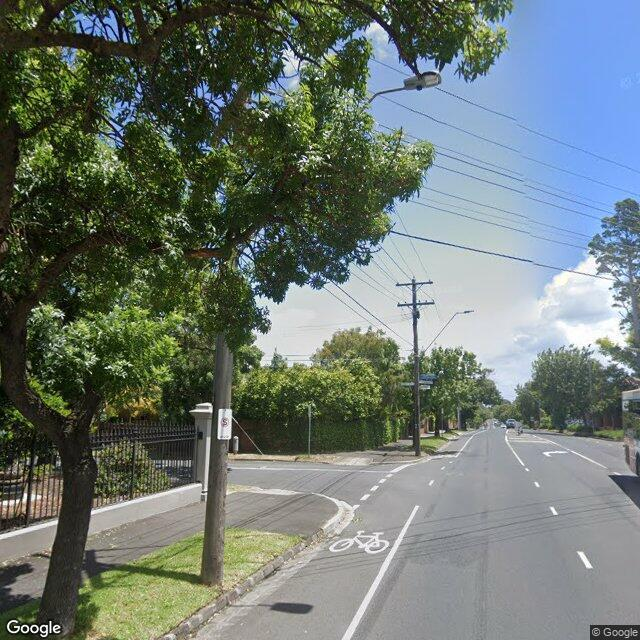HV-transmission: (395, 276, 434, 287)
crossarm: (396, 299, 436, 307), (399, 282, 430, 286)
streetlight: (420, 310, 474, 358)
timber-pole: (198, 235, 238, 584), (412, 279, 421, 456)
